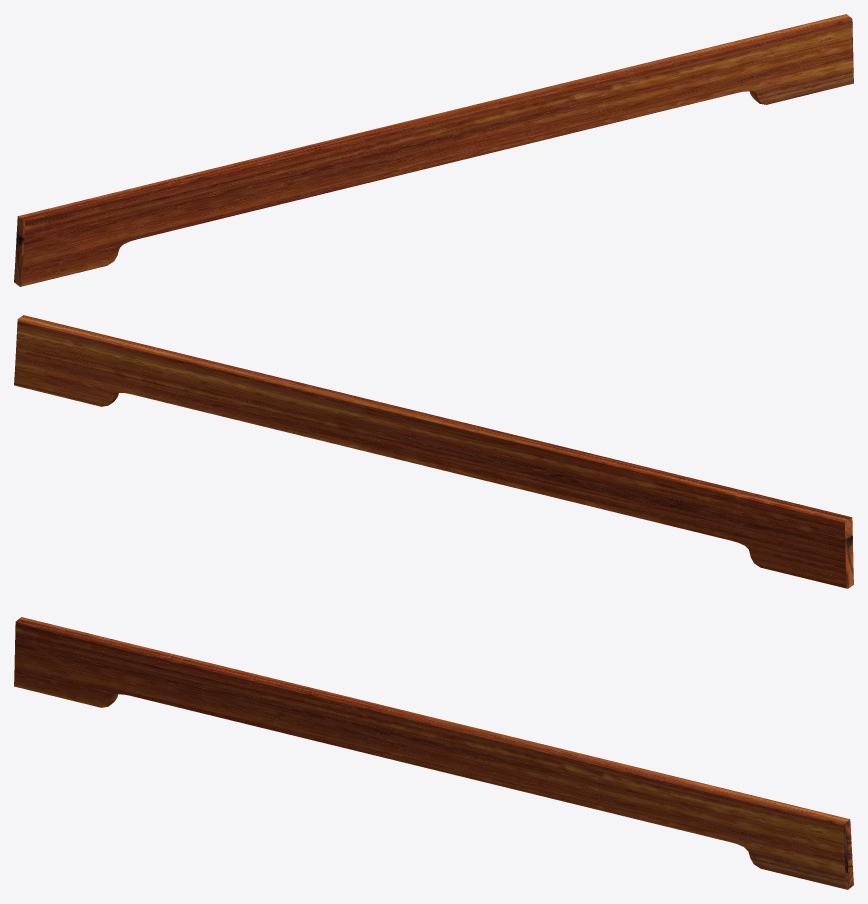
Rendered from quanyi_J_xiayatiao.FBX.
3 views of the same model, one above another, from view 1: azimuth 30°, elevation 25°; view 2: azimuth 150°, elevation 25°; view 3: azimuth 330°, elevation 25° (orthographic).
Parts seen in each view (by area): view 1: quanyi_J_xiayatiao; view 2: quanyi_J_xiayatiao; view 3: quanyi_J_xiayatiao.
Part boxes in pixels (x1=…): quanyi_J_xiayatiao: x1=14, y1=14, x2=853, y2=286; quanyi_J_xiayatiao: x1=14, y1=315, x2=853, y2=588; quanyi_J_xiayatiao: x1=14, y1=617, x2=853, y2=889.
Bounding box in the file's own units: 53.93 × 4.12 × 0.9131.
Materials: 2 (2 with a texture image).
